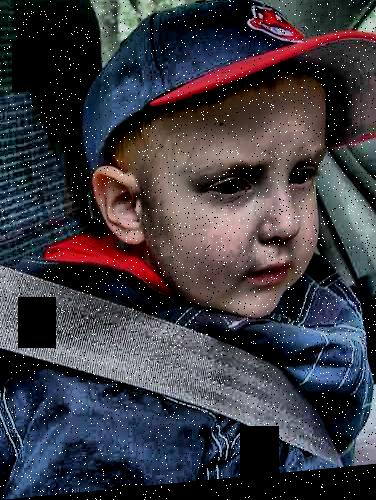seatbelt: (3, 239, 357, 486)
